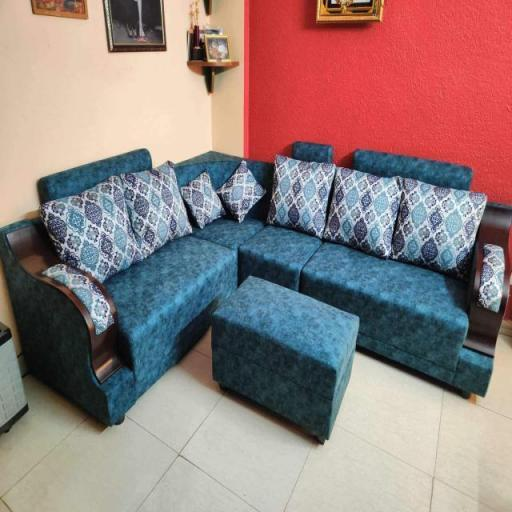sofa: (16, 143, 512, 443)
